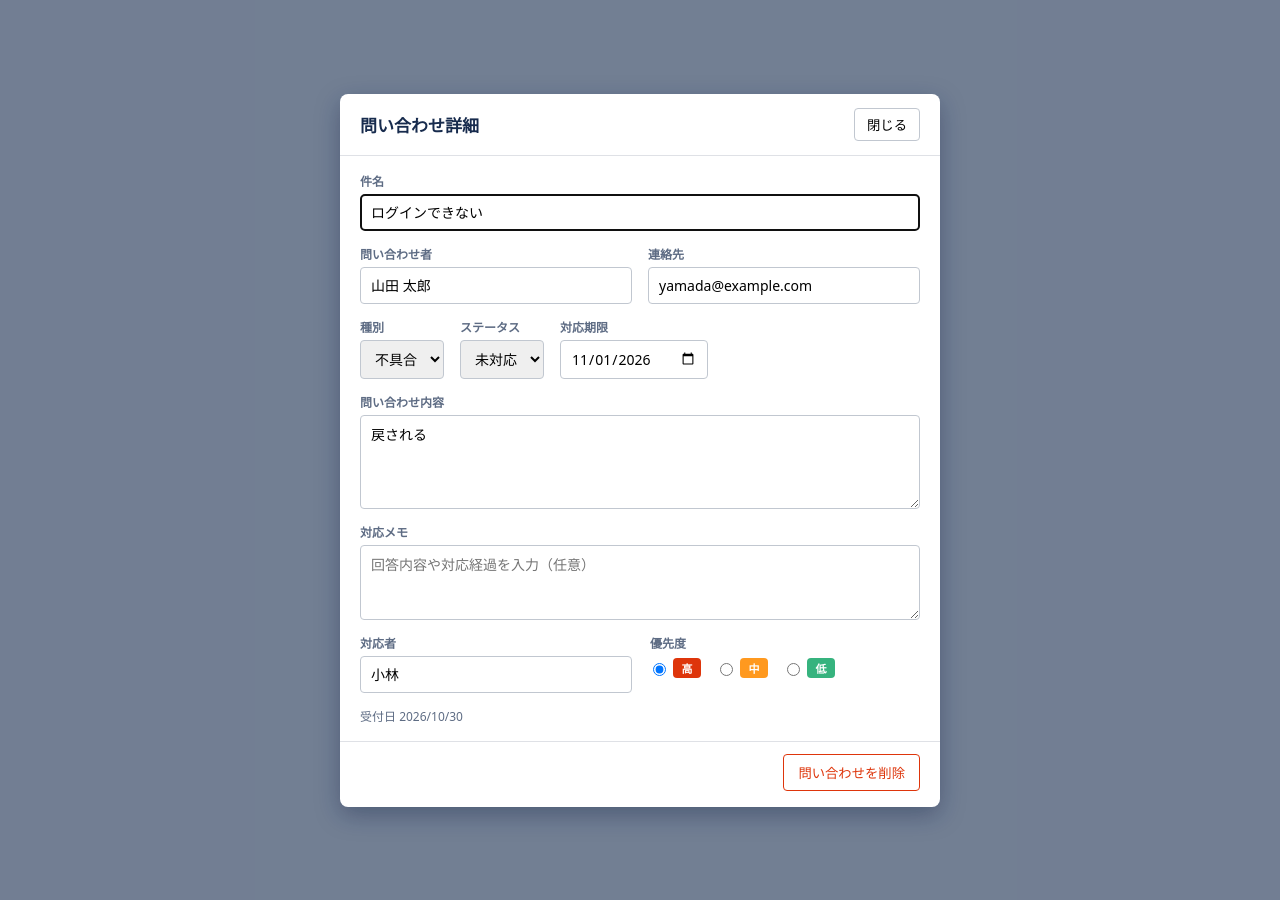
Test: InquiryDetail › 必須項目を空にしたら送らず、元の値に戻す
Clear the field labelled "問い合わせ者": (496, 285) x1=360 y1=266 x2=632 y2=304
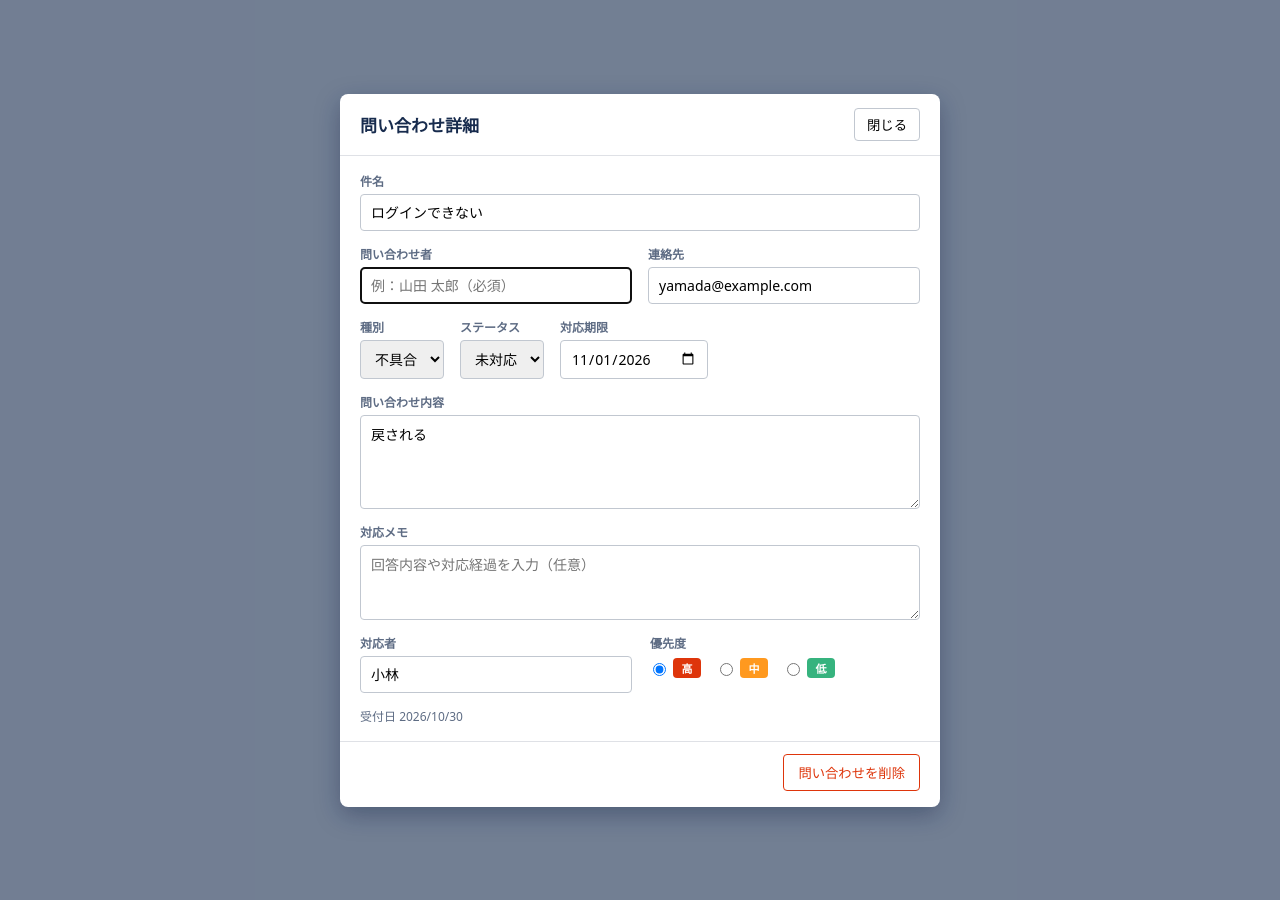
Press Tab
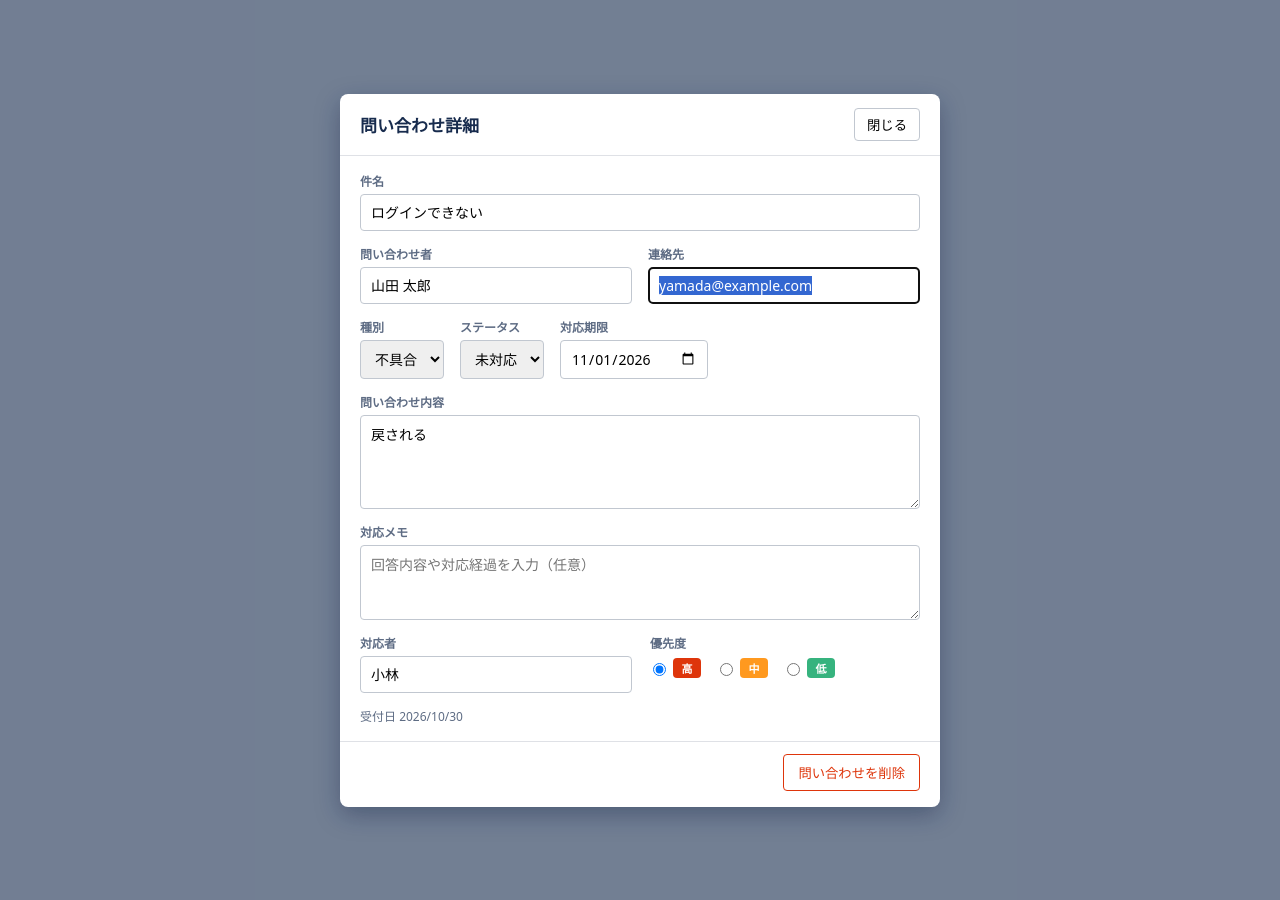
Result: the field labelled "問い合わせ者" holds "山田 太郎" at x1=360 y1=266 x2=632 y2=304
